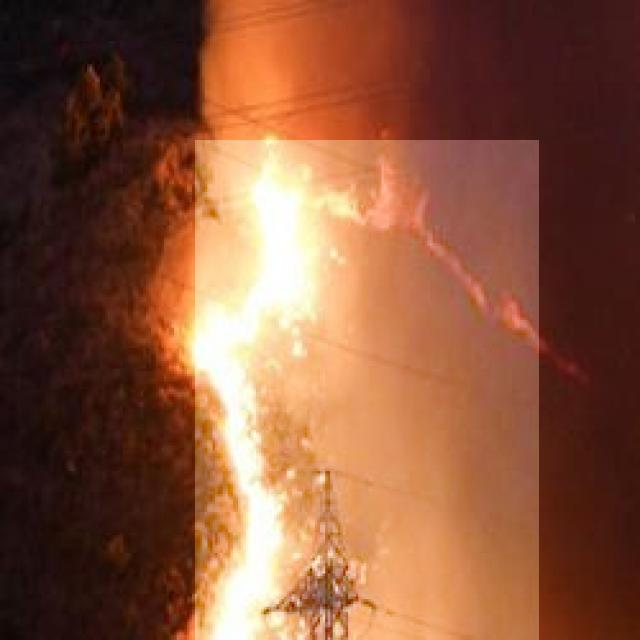Fire: (195, 140, 539, 640)
